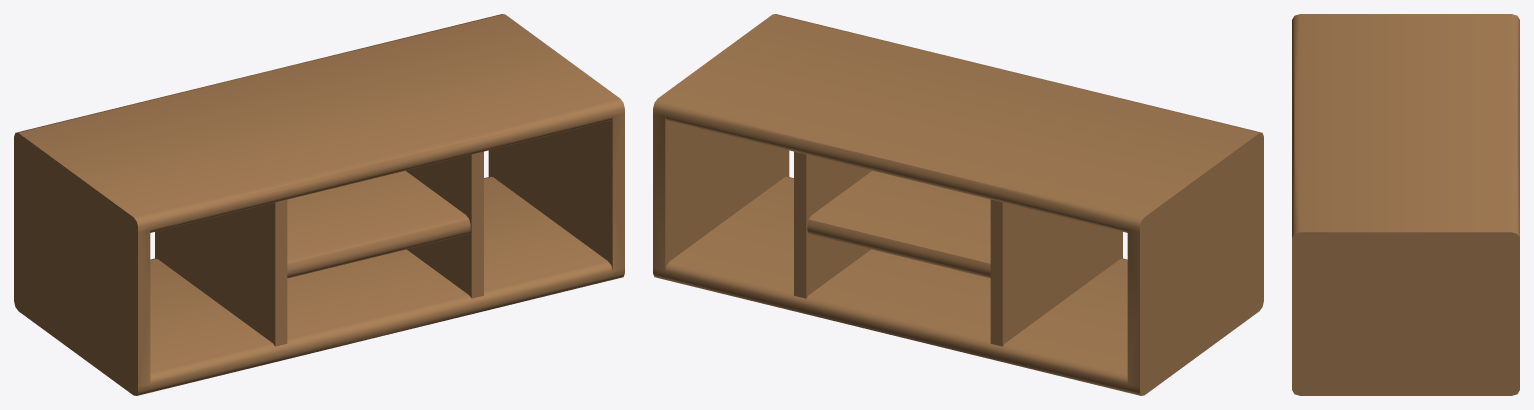
Rendered from Environment_Cabinet_Shelves_2.fbx.
3 renders of one model, left to right at view 1: azimuth 30°, elevation 25°; view 2: azimuth 150°, elevation 25°; view 3: azimuth 270°, elevation 25°, orthographic. The views are drawn at different scales.
Visible parts, largest first — view 1: Environment_Cabinet_Shelves_2; view 2: Environment_Cabinet_Shelves_2; view 3: Environment_Cabinet_Shelves_2.
Part boxes in pixels (bbox=[...]): Environment_Cabinet_Shelves_2: bbox=[14, 14, 624, 395]; Environment_Cabinet_Shelves_2: bbox=[653, 14, 1263, 395]; Environment_Cabinet_Shelves_2: bbox=[1292, 14, 1519, 395].
Bounding box in the file's own units: 400 × 140 × 177.
